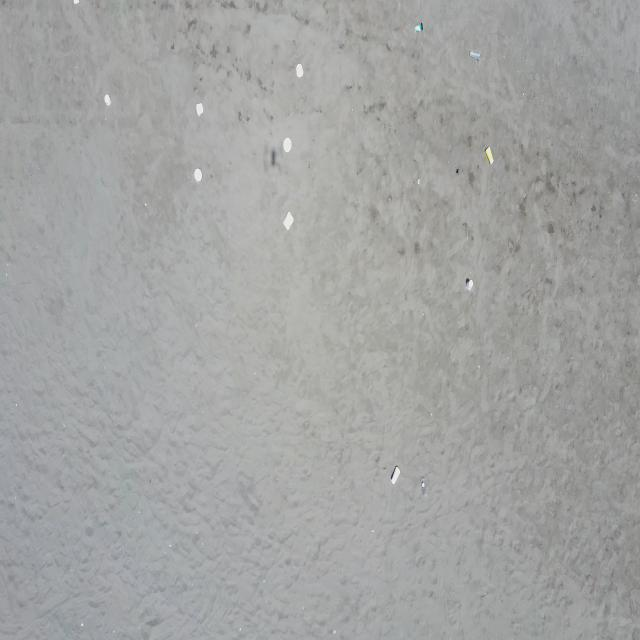take-away-containers: (283, 211, 294, 230), (283, 137, 292, 153), (194, 168, 203, 183), (296, 64, 304, 78), (105, 94, 114, 106), (196, 102, 203, 116)
takeaway-cup: (391, 466, 400, 485), (485, 146, 494, 164), (420, 476, 428, 495), (469, 50, 481, 61), (414, 23, 424, 33), (466, 279, 474, 291)
